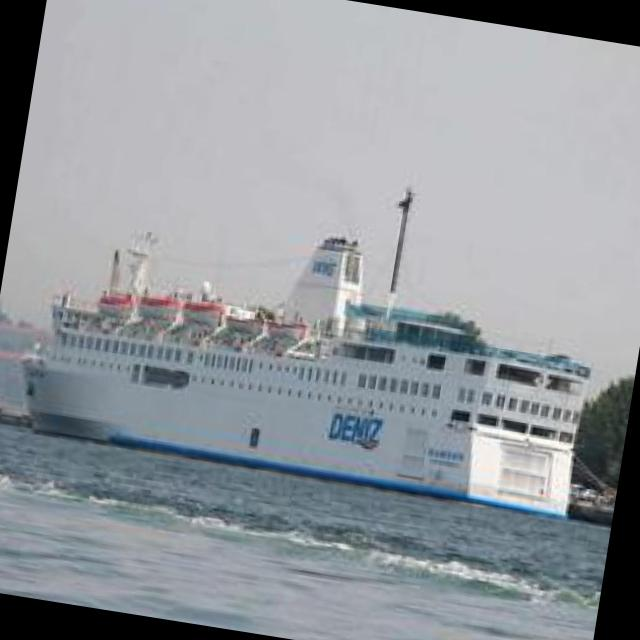boat: (10, 263, 599, 532)
